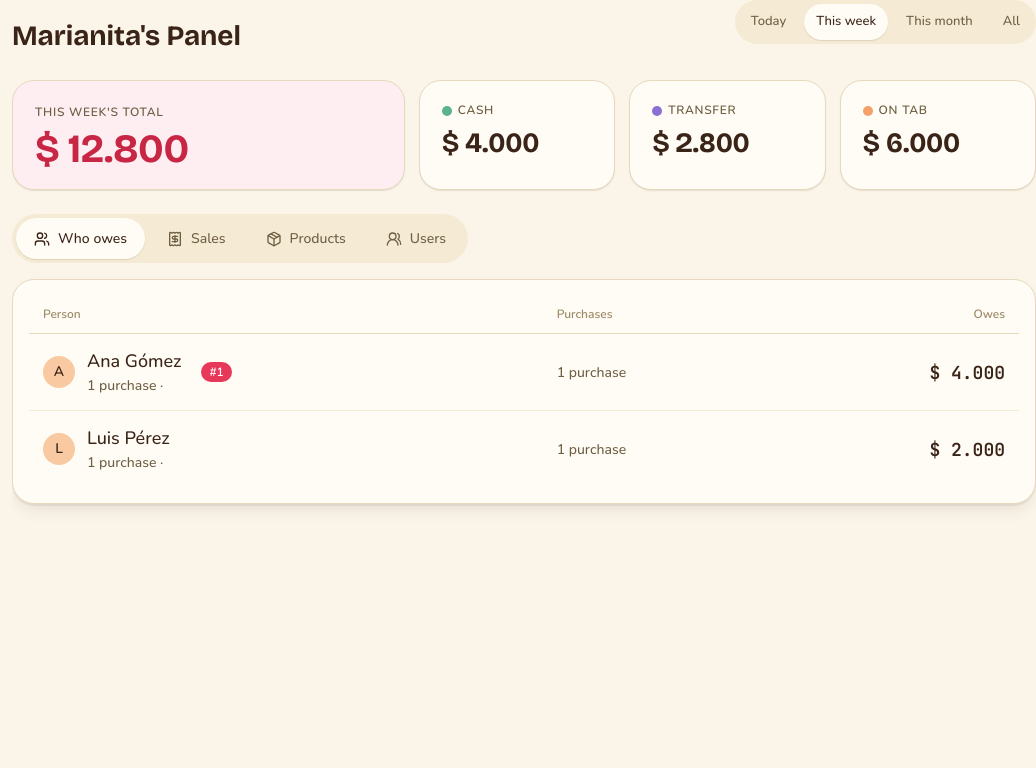
Test case: MarianitaPanel — ventas por día › al expandir un día muestra el detalle de las compras
Click the button "Sales".
click(196, 239)  # box [149, 218, 244, 259]
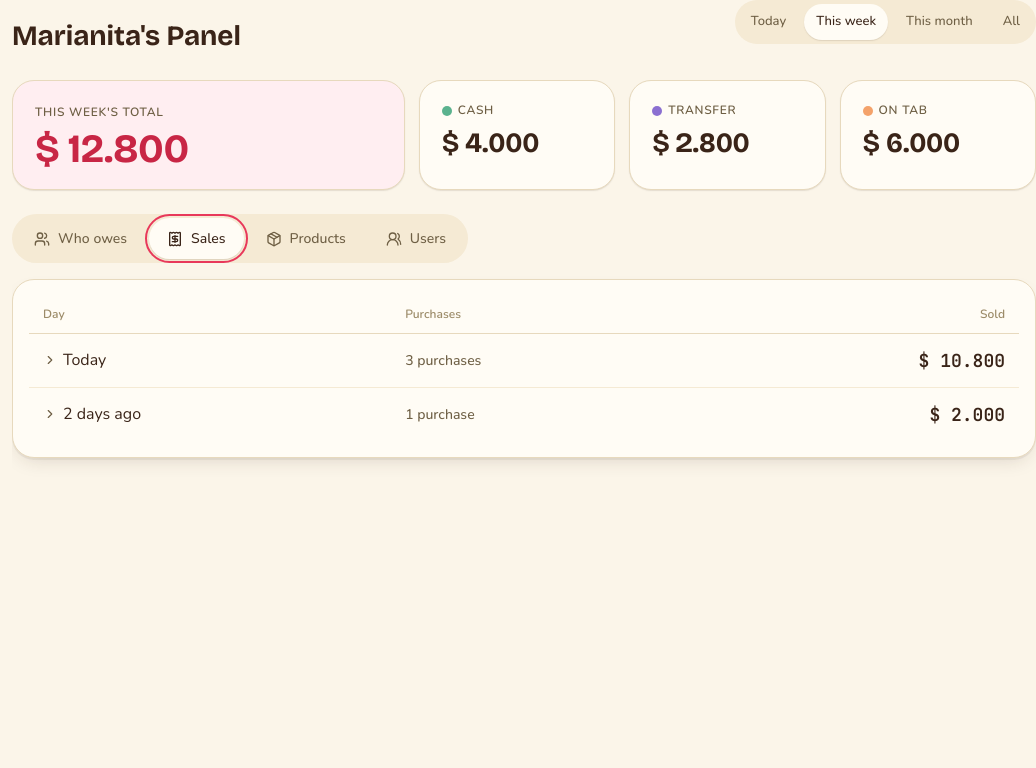
Expected: the text "Doritos" is not shown
# expandir "hoy" (Today) muestra los productos vendidos ese día
Click the text "Today".
click(210, 361)  # box [29, 334, 391, 388]
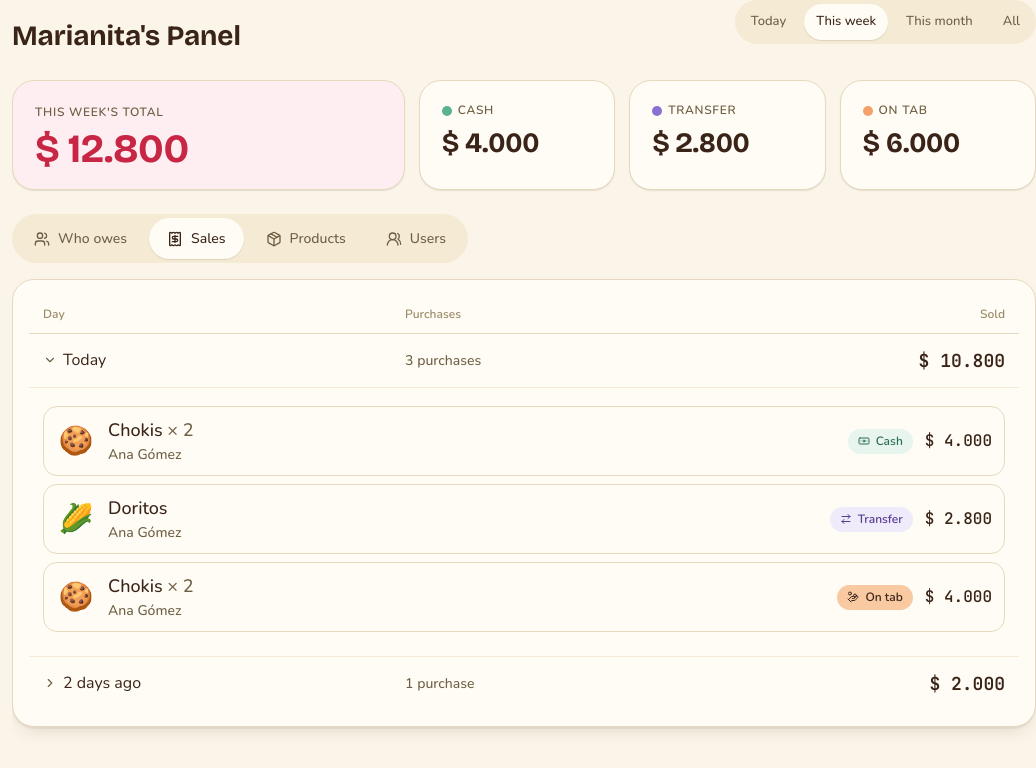
Now the text "Doritos" is shown, box [108, 496, 168, 520]
Now the text "Chokis" is shown 2 times, box [108, 418, 194, 442]; [108, 574, 194, 598]
